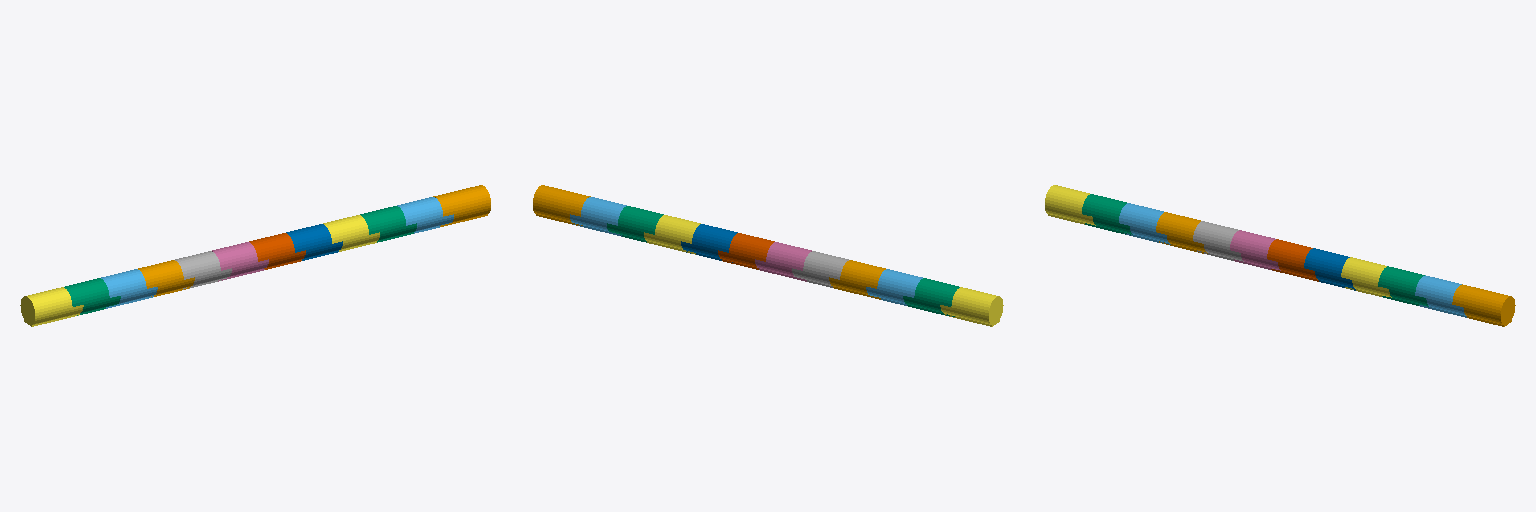
robot.urdf — kiro_robot:
<?xml version="1.0" ?>
<robot name="kiro_robot">
  <joint name="kiro_robot__joint1" type="revolute">
    <parent link="kiro_robot__body1"/>
    <child link="kiro_robot__head"/>
    <origin rpy="0  0  0" xyz="8.00000000e-05   0.00000000e+00  -1.00000000e-01"/>
    <axis xyz="0  1  0"/>
    <limit effort="0.0" lower="-1.22173" upper="1.22173" velocity="8.16814"/>
  </joint>
  <joint name="kiro_robot__joint2" type="revolute">
    <parent link="kiro_robot__body2"/>
    <child link="kiro_robot__body1"/>
    <origin rpy="0  0  0" xyz="8.00000000e-05   0.00000000e+00  -1.00000000e-01"/>
    <axis xyz="1.00000000e+00   0.00000000e+00   7.90000000e-04"/>
    <limit effort="0.0" lower="-1.22173" upper="1.22173" velocity="8.16814"/>
  </joint>
  <joint name="kiro_robot__joint3" type="revolute">
    <parent link="kiro_robot__body3"/>
    <child link="kiro_robot__body2"/>
    <origin rpy="0  0  0" xyz="8.00000000e-05   0.00000000e+00  -1.00000000e-01"/>
    <axis xyz="0  1  0"/>
    <limit effort="0.0" lower="-1.22173" upper="1.22173" velocity="8.16814"/>
  </joint>
  <joint name="kiro_robot__joint4" type="revolute">
    <parent link="kiro_robot__body4"/>
    <child link="kiro_robot__body3"/>
    <origin rpy="0  0  0" xyz="8.00000000e-05   0.00000000e+00  -1.00000000e-01"/>
    <axis xyz="1.00000000e+00   0.00000000e+00   7.90000000e-04"/>
    <limit effort="0.0" lower="-1.22173" upper="1.22173" velocity="8.16814"/>
  </joint>
  <joint name="kiro_robot__joint5" type="revolute">
    <parent link="kiro_robot__body5"/>
    <child link="kiro_robot__body4"/>
    <origin rpy="0  0  0" xyz="8.00000000e-05   0.00000000e+00  -1.00000000e-01"/>
    <axis xyz="0  1  0"/>
    <limit effort="0.0" lower="-1.22173" upper="1.22173" velocity="8.16814"/>
  </joint>
  <joint name="kiro_robot__joint6" type="revolute">
    <parent link="kiro_robot__body6"/>
    <child link="kiro_robot__body5"/>
    <origin rpy="0  0  0" xyz="8.00000000e-05   0.00000000e+00  -1.00000000e-01"/>
    <axis xyz="1.00000000e+00   0.00000000e+00   7.90000000e-04"/>
    <limit effort="0.0" lower="-1.22173" upper="1.22173" velocity="8.16814"/>
  </joint>
  <joint name="kiro_robot__joint7" type="revolute">
    <parent link="kiro_robot__body7"/>
    <child link="kiro_robot__body6"/>
    <origin rpy="0  0  0" xyz="8.00000000e-05   0.00000000e+00  -1.00000000e-01"/>
    <axis xyz="0  1  0"/>
    <limit effort="0.0" lower="-1.22173" upper="1.22173" velocity="8.16814"/>
  </joint>
  <joint name="kiro_robot__joint8" type="revolute">
    <parent link="kiro_robot__body8"/>
    <child link="kiro_robot__body7"/>
    <origin rpy="0  0  0" xyz="8.00000000e-05   0.00000000e+00  -1.00000000e-01"/>
    <axis xyz="1.00000000e+00   0.00000000e+00   7.90000000e-04"/>
    <limit effort="0.0" lower="-1.22173" upper="1.22173" velocity="8.16814"/>
  </joint>
  <joint name="kiro_robot__joint9" type="revolute">
    <parent link="kiro_robot__body9"/>
    <child link="kiro_robot__body8"/>
    <origin rpy="0  0  0" xyz="8.00000000e-05   0.00000000e+00  -1.00000000e-01"/>
    <axis xyz="0  1  0"/>
    <limit effort="0.0" lower="-1.22173" upper="1.22173" velocity="8.16814"/>
  </joint>
  <joint name="kiro_robot__joint10" type="revolute">
    <parent link="kiro_robot__body10"/>
    <child link="kiro_robot__body9"/>
    <origin rpy="0  0  0" xyz="8.00000000e-05   0.00000000e+00  -1.00000000e-01"/>
    <axis xyz="0  1  0"/>
    <limit effort="0.0" lower="-1.22173" upper="1.22173" velocity="8.16814"/>
  </joint>
  <joint name="kiro_robot__joint11" type="revolute">
    <parent link="kiro_robot__tail"/>
    <child link="kiro_robot__body10"/>
    <origin rpy="0   -1.57  0" xyz="-1.05     0       0.03504"/>
    <axis xyz="0  1  0"/>
    <limit effort="0.0" lower="-1.22173" upper="1.22173" velocity="8.16814"/>
  </joint>
  <link name="kiro_robot__head">
    <inertial>
      <mass value="0"/>
      <origin rpy="0  0  0" xyz="0  0  0"/>
      <inertia ixx="0" ixy="0" ixz="0" iyy="0" iyz="0" izz="0"/>
    </inertial>
    <collision name="kiro_robot__head_collision">
      <origin rpy="0  0  0" xyz="0     0    -0.075"/>
      <geometry>
        <cylinder length=".08" radius=".035"/>
      </geometry>
    </collision>
    <collision name="kiro_robot__head_pad_collision">
      <origin rpy="0  0  0" xyz="-0.025  0    -0.075"/>
      <geometry>
        <box size="0.02 0.035 0.08"/>
      </geometry>
    </collision>
    <visual name="kiro_robot__head_visual">
      <origin rpy="0  0  0" xyz="0    0   -0.05"/>
      <geometry>
        <cylinder length=".13" radius=".035"/>
      </geometry>
    </visual>
    <visual name="kiro_robot__head_pad_visual">
      <origin rpy="0  0  0" xyz="-0.025  0    -0.05"/>
      <geometry>
        <box size="0.02 0.035 0.13"/>
      </geometry>
    </visual>
  </link>
  <link name="kiro_robot__body1">
    <inertial>
      <mass value="0"/>
      <origin rpy="0  0  0" xyz="0  0  0"/>
      <inertia ixx="0" ixy="0" ixz="0" iyy="0" iyz="0" izz="0"/>
    </inertial>
    <collision name="kiro_robot__body1_collision">
      <origin rpy="0  0  0" xyz="0     0    -0.075"/>
      <geometry>
        <cylinder length=".08" radius=".035"/>
      </geometry>
    </collision>
    <collision name="kiro_robot__body1_pad_collision">
      <origin rpy="0  0  0" xyz="-0.025  0    -0.075"/>
      <geometry>
        <box size="0.02 0.035 0.08"/>
      </geometry>
    </collision>
    <visual name="kiro_robot__body1_visual">
      <origin rpy="0  0  0" xyz="0    0   -0.05"/>
      <geometry>
        <cylinder length=".13" radius=".035"/>
      </geometry>
    </visual>
    <visual name="kiro_robot__body1_pad_visual">
      <origin rpy="0  0  0" xyz="-0.025  0    -0.05"/>
      <geometry>
        <box size="0.02 0.035 0.13"/>
      </geometry>
    </visual>
  </link>
  <link name="kiro_robot__body2">
    <inertial>
      <mass value="0"/>
      <origin rpy="0  0  0" xyz="0  0  0"/>
      <inertia ixx="0" ixy="0" ixz="0" iyy="0" iyz="0" izz="0"/>
    </inertial>
    <collision name="kiro_robot__body2_collision">
      <origin rpy="0  0  0" xyz="0     0    -0.075"/>
      <geometry>
        <cylinder length=".08" radius=".035"/>
      </geometry>
    </collision>
    <collision name="kiro_robot__body2_pad_collision">
      <origin rpy="0  0  0" xyz="-0.025  0    -0.075"/>
      <geometry>
        <box size="0.02 0.035 0.08"/>
      </geometry>
    </collision>
    <visual name="kiro_robot__body2_visual">
      <origin rpy="0  0  0" xyz="0    0   -0.05"/>
      <geometry>
        <cylinder length=".13" radius=".035"/>
      </geometry>
    </visual>
    <visual name="kiro_robot__body2_pad_visual">
      <origin rpy="0  0  0" xyz="-0.025  0    -0.05"/>
      <geometry>
        <box size="0.02 0.035 0.13"/>
      </geometry>
    </visual>
  </link>
  <link name="kiro_robot__body3">
    <inertial>
      <mass value="0"/>
      <origin rpy="0  0  0" xyz="0  0  0"/>
      <inertia ixx="0" ixy="0" ixz="0" iyy="0" iyz="0" izz="0"/>
    </inertial>
    <collision name="kiro_robot__body3_collision">
      <origin rpy="0  0  0" xyz="0     0    -0.075"/>
      <geometry>
        <cylinder length=".08" radius=".035"/>
      </geometry>
    </collision>
    <collision name="kiro_robot__body3_pad_collision">
      <origin rpy="0  0  0" xyz="-0.025  0    -0.075"/>
      <geometry>
        <box size="0.02 0.035 0.08"/>
      </geometry>
    </collision>
    <visual name="kiro_robot__body3_visual">
      <origin rpy="0  0  0" xyz="0    0   -0.05"/>
      <geometry>
        <cylinder length=".13" radius=".035"/>
      </geometry>
    </visual>
    <visual name="kiro_robot__body3_pad_visual">
      <origin rpy="0  0  0" xyz="-0.025  0    -0.05"/>
      <geometry>
        <box size="0.02 0.035 0.13"/>
      </geometry>
    </visual>
  </link>
  <link name="kiro_robot__body4">
    <inertial>
      <mass value="0"/>
      <origin rpy="0  0  0" xyz="0  0  0"/>
      <inertia ixx="0" ixy="0" ixz="0" iyy="0" iyz="0" izz="0"/>
    </inertial>
    <collision name="kiro_robot__body4_collision">
      <origin rpy="0  0  0" xyz="0     0    -0.075"/>
      <geometry>
        <cylinder length=".08" radius=".035"/>
      </geometry>
    </collision>
    <collision name="kiro_robot__body4_pad_collision">
      <origin rpy="0  0  0" xyz="-0.025  0    -0.075"/>
      <geometry>
        <box size="0.02 0.035 0.08"/>
      </geometry>
    </collision>
    <visual name="kiro_robot__body4_visual">
      <origin rpy="0  0  0" xyz="0    0   -0.05"/>
      <geometry>
        <cylinder length=".13" radius=".035"/>
      </geometry>
    </visual>
    <visual name="kiro_robot__body4_pad_visual">
      <origin rpy="0  0  0" xyz="-0.025  0    -0.05"/>
      <geometry>
        <box size="0.02 0.035 0.13"/>
      </geometry>
    </visual>
  </link>
  <link name="kiro_robot__body5">
    <inertial>
      <mass value="0"/>
      <origin rpy="0  0  0" xyz="0  0  0"/>
      <inertia ixx="0" ixy="0" ixz="0" iyy="0" iyz="0" izz="0"/>
    </inertial>
    <collision name="kiro_robot__body5_collision">
      <origin rpy="0  0  0" xyz="0     0    -0.075"/>
      <geometry>
        <cylinder length=".08" radius=".035"/>
      </geometry>
    </collision>
    <collision name="kiro_robot__body5_pad_collision">
      <origin rpy="0  0  0" xyz="-0.025  0    -0.075"/>
      <geometry>
        <box size="0.02 0.035 0.08"/>
      </geometry>
    </collision>
    <visual name="kiro_robot__body5_visual">
      <origin rpy="0  0  0" xyz="0    0   -0.05"/>
      <geometry>
        <cylinder length=".13" radius=".035"/>
      </geometry>
    </visual>
    <visual name="kiro_robot__body5_pad_visual">
      <origin rpy="0  0  0" xyz="-0.025  0    -0.05"/>
      <geometry>
        <box size="0.02 0.035 0.13"/>
      </geometry>
    </visual>
  </link>
  <link name="kiro_robot__body6">
    <inertial>
      <mass value="0"/>
      <origin rpy="0  0  0" xyz="0  0  0"/>
      <inertia ixx="0" ixy="0" ixz="0" iyy="0" iyz="0" izz="0"/>
    </inertial>
    <collision name="kiro_robot__body6_collision">
      <origin rpy="0  0  0" xyz="0     0    -0.075"/>
      <geometry>
        <cylinder length=".08" radius=".035"/>
      </geometry>
    </collision>
    <collision name="kiro_robot__body6_pad_collision">
      <origin rpy="0  0  0" xyz="-0.025  0    -0.075"/>
      <geometry>
        <box size="0.02 0.035 0.08"/>
      </geometry>
    </collision>
    <visual name="kiro_robot__body6_visual">
      <origin rpy="0  0  0" xyz="0    0   -0.05"/>
      <geometry>
        <cylinder length=".13" radius=".035"/>
      </geometry>
    </visual>
    <visual name="kiro_robot__body6_pad_visual">
      <origin rpy="0  0  0" xyz="-0.025  0    -0.05"/>
      <geometry>
        <box size="0.02 0.035 0.13"/>
      </geometry>
    </visual>
  </link>
  <link name="kiro_robot__body7">
    <inertial>
      <mass value="0"/>
      <origin rpy="0  0  0" xyz="0  0  0"/>
      <inertia ixx="0" ixy="0" ixz="0" iyy="0" iyz="0" izz="0"/>
    </inertial>
    <collision name="kiro_robot__body7_collision">
      <origin rpy="0  0  0" xyz="0     0    -0.075"/>
      <geometry>
        <cylinder length=".08" radius=".035"/>
      </geometry>
    </collision>
    <collision name="kiro_robot__body7_pad_collision">
      <origin rpy="0  0  0" xyz="-0.025  0    -0.075"/>
      <geometry>
        <box size="0.02 0.035 0.08"/>
      </geometry>
    </collision>
    <visual name="kiro_robot__body7_visual">
      <origin rpy="0  0  0" xyz="0    0   -0.05"/>
      <geometry>
        <cylinder length=".13" radius=".035"/>
      </geometry>
    </visual>
    <visual name="kiro_robot__body7_pad_visual">
      <origin rpy="0  0  0" xyz="-0.025  0    -0.05"/>
      <geometry>
        <box size="0.02 0.035 0.13"/>
      </geometry>
    </visual>
  </link>
  <link name="kiro_robot__body8">
    <inertial>
      <mass value="0"/>
      <origin rpy="0  0  0" xyz="0  0  0"/>
      <inertia ixx="0" ixy="0" ixz="0" iyy="0" iyz="0" izz="0"/>
    </inertial>
    <collision name="kiro_robot__body8_collision">
      <origin rpy="0  0  0" xyz="0     0    -0.075"/>
      <geometry>
        <cylinder length=".08" radius=".035"/>
      </geometry>
    </collision>
    <collision name="kiro_robot__body8_pad_collision">
      <origin rpy="0  0  0" xyz="-0.025  0    -0.075"/>
      <geometry>
        <box size="0.02 0.035 0.08"/>
      </geometry>
    </collision>
    <visual name="kiro_robot__body8_visual">
      <origin rpy="0  0  0" xyz="0    0   -0.05"/>
      <geometry>
        <cylinder length=".13" radius=".035"/>
      </geometry>
    </visual>
    <visual name="kiro_robot__body8_pad_visual">
      <origin rpy="0  0  0" xyz="-0.025  0    -0.05"/>
      <geometry>
        <box size="0.02 0.035 0.13"/>
      </geometry>
    </visual>
  </link>
  <link name="kiro_robot__body9">
    <inertial>
      <mass value="0"/>
      <origin rpy="0  0  0" xyz="0  0  0"/>
      <inertia ixx="0" ixy="0" ixz="0" iyy="0" iyz="0" izz="0"/>
    </inertial>
    <collision name="kiro_robot__body9_collision">
      <origin rpy="0  0  0" xyz="0     0    -0.075"/>
      <geometry>
        <cylinder length=".08" radius=".035"/>
      </geometry>
    </collision>
    <collision name="kiro_robot__body9_pad_collision">
      <origin rpy="0  0  0" xyz="-0.025  0    -0.075"/>
      <geometry>
        <box size="0.02 0.035 0.08"/>
      </geometry>
    </collision>
    <visual name="kiro_robot__body9_visual">
      <origin rpy="0  0  0" xyz="0    0   -0.05"/>
      <geometry>
        <cylinder length=".13" radius=".035"/>
      </geometry>
    </visual>
    <visual name="kiro_robot__body9_pad_visual">
      <origin rpy="0  0  0" xyz="-0.025  0    -0.05"/>
      <geometry>
        <box size="0.02 0.035 0.13"/>
      </geometry>
    </visual>
  </link>
  <link name="kiro_robot__body10">
    <inertial>
      <mass value="0"/>
      <origin rpy="0  0  0" xyz="0  0  0"/>
      <inertia ixx="0" ixy="0" ixz="0" iyy="0" iyz="0" izz="0"/>
    </inertial>
    <collision name="kiro_robot__body10_collision">
      <origin rpy="0  0  0" xyz="0     0    -0.075"/>
      <geometry>
        <cylinder length=".08" radius=".035"/>
      </geometry>
    </collision>
    <collision name="kiro_robot__body10_pad_collision">
      <origin rpy="0  0  0" xyz="-0.025  0    -0.075"/>
      <geometry>
        <box size="0.02 0.035 0.08"/>
      </geometry>
    </collision>
    <visual name="kiro_robot__body10_visual">
      <origin rpy="0  0  0" xyz="0    0   -0.05"/>
      <geometry>
        <cylinder length=".13" radius=".035"/>
      </geometry>
    </visual>
    <visual name="kiro_robot__body10_pad_visual">
      <origin rpy="0  0  0" xyz="-0.025  0    -0.05"/>
      <geometry>
        <box size="0.02 0.035 0.13"/>
      </geometry>
    </visual>
  </link>
  <link name="kiro_robot__tail">
    <inertial>
      <mass value="0"/>
      <origin rpy="0  0  0" xyz="0  0  0"/>
      <inertia ixx="0" ixy="0" ixz="0" iyy="0" iyz="0" izz="0"/>
    </inertial>
    <collision name="kiro_robot__tail_collision">
      <origin rpy="0   -1.57  0" xyz="-1.1    0     0.035"/>
      <geometry>
        <cylinder length=".13" radius=".035"/>
      </geometry>
    </collision>
    <collision name="kiro_robot__tail_pad_collision">
      <origin rpy="0   -1.57  0" xyz="-1.10002  0       0.01"/>
      <geometry>
        <box size="0.02 0.035 0.13"/>
      </geometry>
    </collision>
    <visual name="kiro_robot__tail_visual">
      <origin rpy="0   -1.57  0" xyz="-1.1    0     0.035"/>
      <geometry>
        <cylinder length=".13" radius=".035"/>
      </geometry>
    </visual>
    <visual name="kiro_robot__tail_pad_visual">
      <origin rpy="0   -1.57  0" xyz="-1.10002  0       0.01"/>
      <geometry>
        <box size="0.02 0.035 0.13"/>
      </geometry>
    </visual>
  </link>
</robot>

--- What the picture shows (computed from the rendered views, not written in the file) ---
Views: 3 orthographic renders of the robot side by side, from view 1: azimuth 30°, elevation 25°; view 2: azimuth 150°, elevation 25°; view 3: azimuth 330°, elevation 25°.
Robot: kiro_robot — 12 links, 11 joints (11 revolute); root link kiro_robot__tail; default pose: every joint at zero.
Visible links, largest first — view 1: kiro_robot__tail, kiro_robot__head, kiro_robot__body9, kiro_robot__body6, kiro_robot__body2, kiro_robot__body3, kiro_robot__body4, kiro_robot__body5, kiro_robot__body7, kiro_robot__body8, kiro_robot__body10, kiro_robot__body1; view 2: kiro_robot__tail, kiro_robot__head, kiro_robot__body6, kiro_robot__body3, kiro_robot__body8, kiro_robot__body10, kiro_robot__body1, kiro_robot__body5, kiro_robot__body4, kiro_robot__body2, kiro_robot__body9, kiro_robot__body7; view 3: kiro_robot__head, kiro_robot__tail, kiro_robot__body1, kiro_robot__body5, kiro_robot__body10, kiro_robot__body2, kiro_robot__body9, kiro_robot__body6, kiro_robot__body8, kiro_robot__body7, kiro_robot__body3, kiro_robot__body4.
Boxes of the visible links, box(x1,y1,x2,y2) form: kiro_robot__tail: box(20, 287, 83, 326); kiro_robot__head: box(433, 185, 490, 226); kiro_robot__body9: box(101, 269, 157, 308); kiro_robot__body6: box(212, 242, 268, 281); kiro_robot__body2: box(360, 206, 416, 242); kiro_robot__body3: box(323, 215, 379, 251); kiro_robot__body4: box(286, 224, 342, 260); kiro_robot__body5: box(249, 233, 305, 269); kiro_robot__body7: box(175, 251, 231, 289); kiro_robot__body8: box(138, 260, 194, 296); kiro_robot__body10: box(64, 278, 120, 315); kiro_robot__body1: box(397, 197, 453, 233); kiro_robot__tail: box(940, 287, 1003, 326); kiro_robot__head: box(533, 185, 590, 225); kiro_robot__body6: box(755, 242, 811, 281); kiro_robot__body3: box(644, 215, 700, 254); kiro_robot__body8: box(829, 260, 885, 299); kiro_robot__body10: box(903, 278, 959, 316); kiro_robot__body1: box(570, 197, 626, 236); kiro_robot__body5: box(718, 233, 774, 269); kiro_robot__body4: box(681, 224, 737, 262); kiro_robot__body2: box(607, 206, 663, 242); kiro_robot__body9: box(866, 269, 922, 305); kiro_robot__body7: box(792, 251, 848, 287); kiro_robot__head: box(1452, 284, 1515, 326); kiro_robot__tail: box(1045, 185, 1095, 225); kiro_robot__body1: box(1415, 275, 1466, 317); kiro_robot__body5: box(1267, 239, 1318, 281); kiro_robot__body10: box(1082, 194, 1132, 235); kiro_robot__body2: box(1378, 266, 1428, 306); kiro_robot__body9: box(1119, 203, 1170, 244); kiro_robot__body6: box(1230, 230, 1280, 270); kiro_robot__body8: box(1156, 212, 1207, 253); kiro_robot__body7: box(1193, 221, 1243, 263); kiro_robot__body3: box(1341, 257, 1391, 297); kiro_robot__body4: box(1304, 248, 1355, 290).
Size in the robot's own frame: 1.23 by 0.07 by 0.0701 metres.
Geometry: primitives only (box / cylinder / sphere), no mesh files.